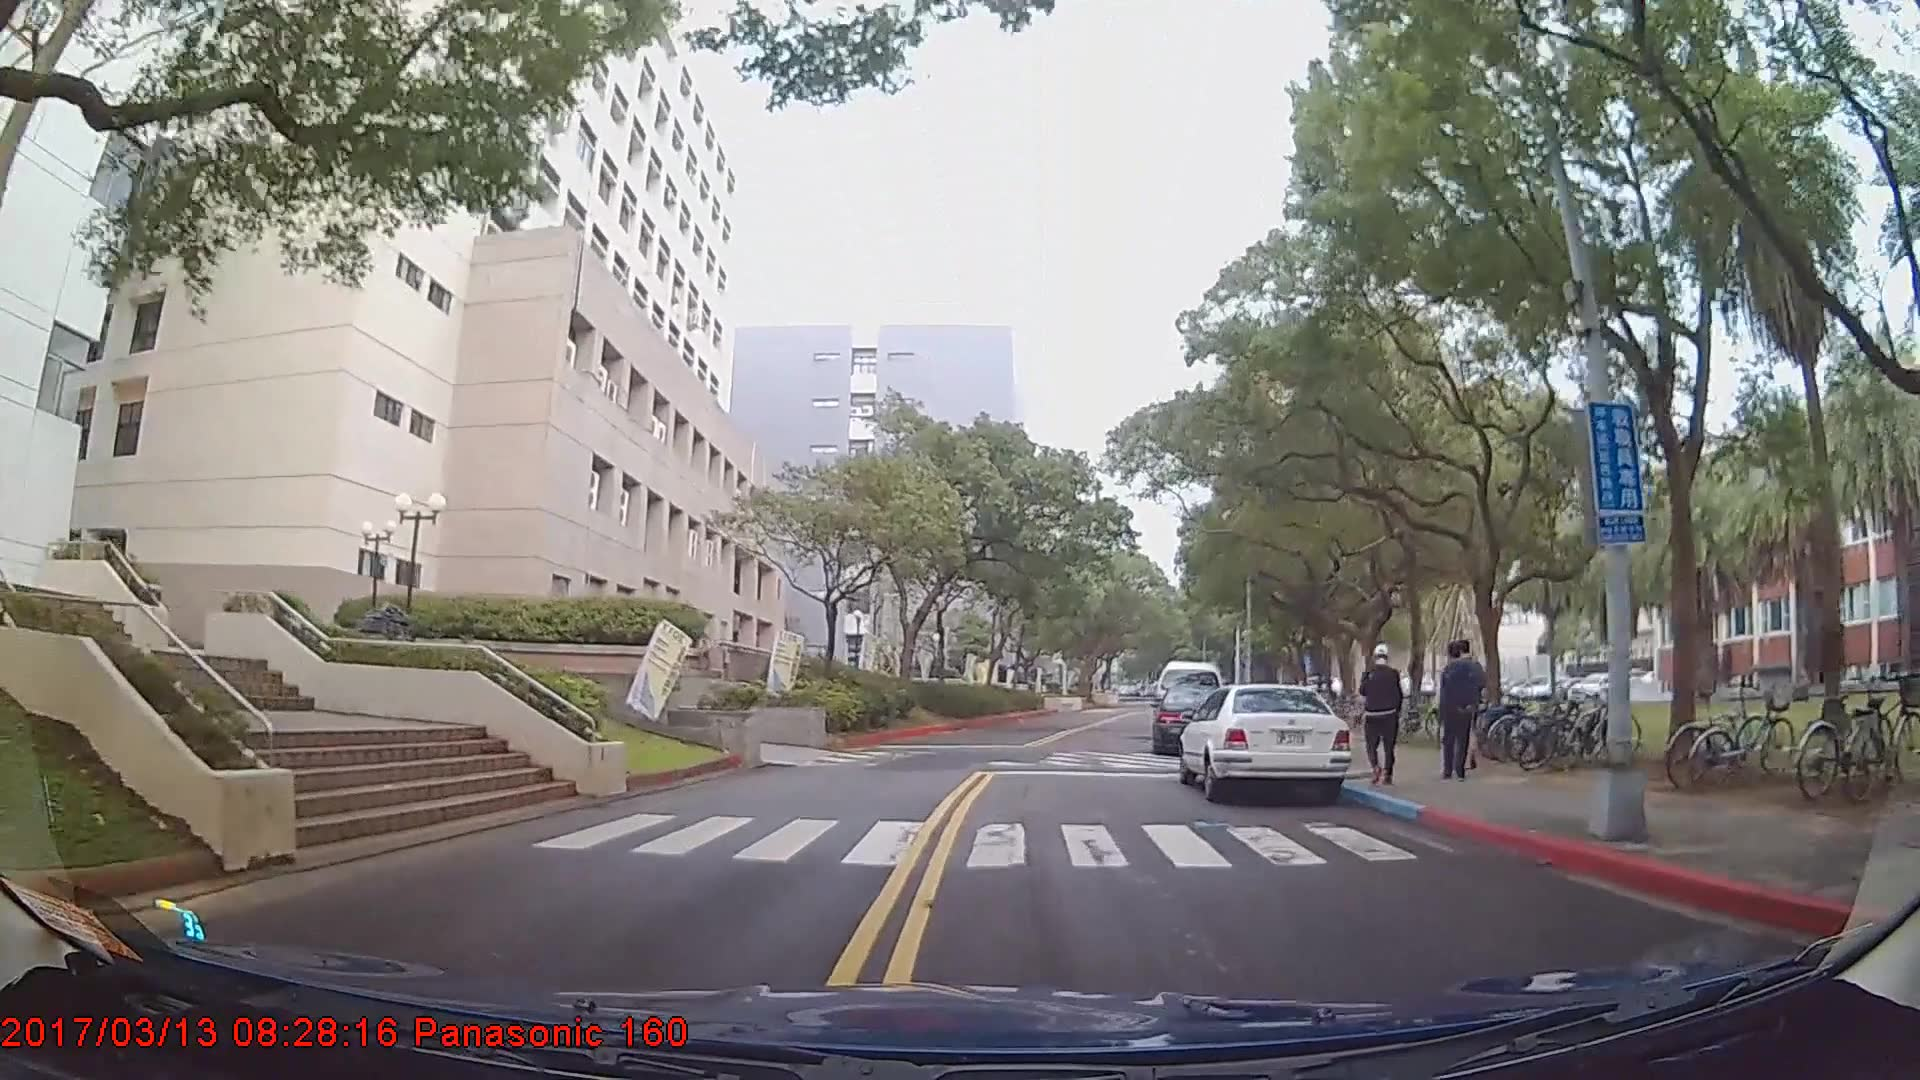pedestrian: (1436, 641, 1488, 789), (1357, 645, 1406, 791)
vehicle: (1179, 684, 1353, 806), (1150, 683, 1240, 755)
